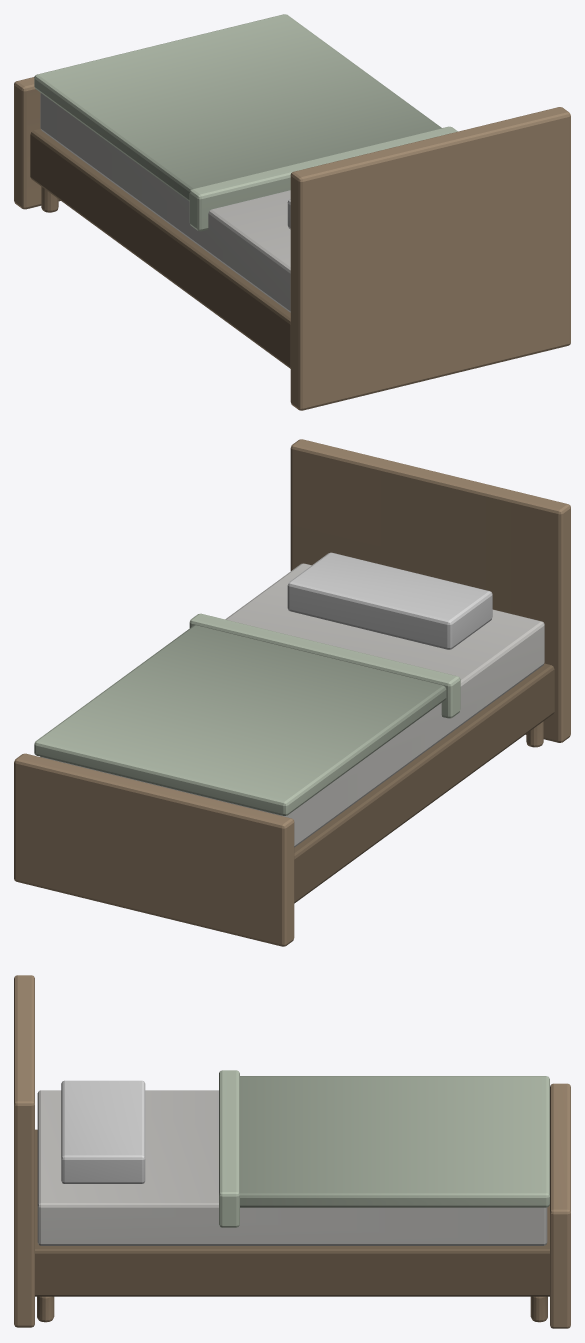
The model's file is furn_bed__sage.glb.
The picture shows the model from 3 angles, top to bottom: view 1: azimuth 30°, elevation 25°; view 2: azimuth 150°, elevation 25°; view 3: azimuth 270°, elevation 25°; orthographic projection. The views are drawn at different scales.
Size of the model in its own units: 1.16 by 0.955 by 2.12.
